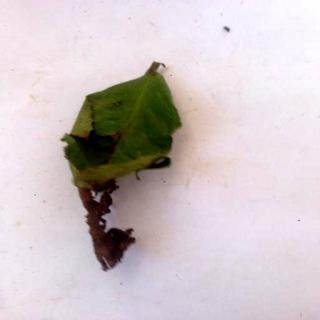Brown Blight: (61, 62, 183, 273)
